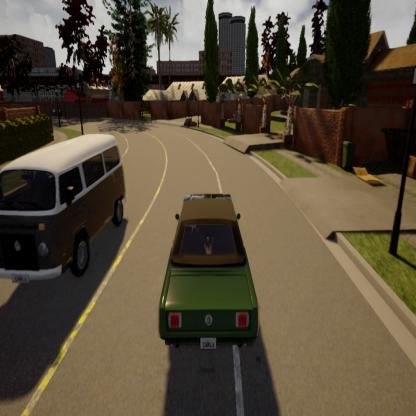Cars: (0, 132, 126, 286), (159, 192, 260, 360)
